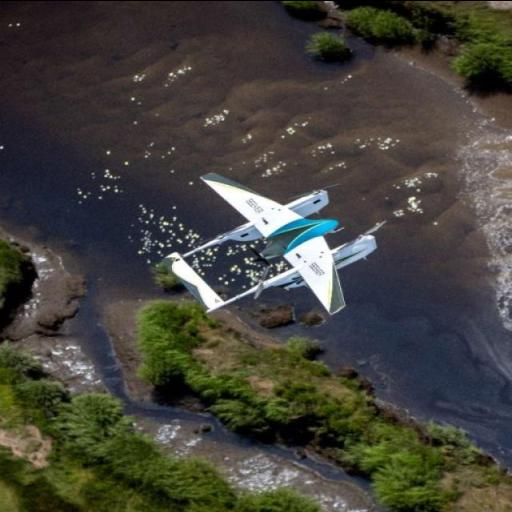uav: (160, 164, 392, 330)
